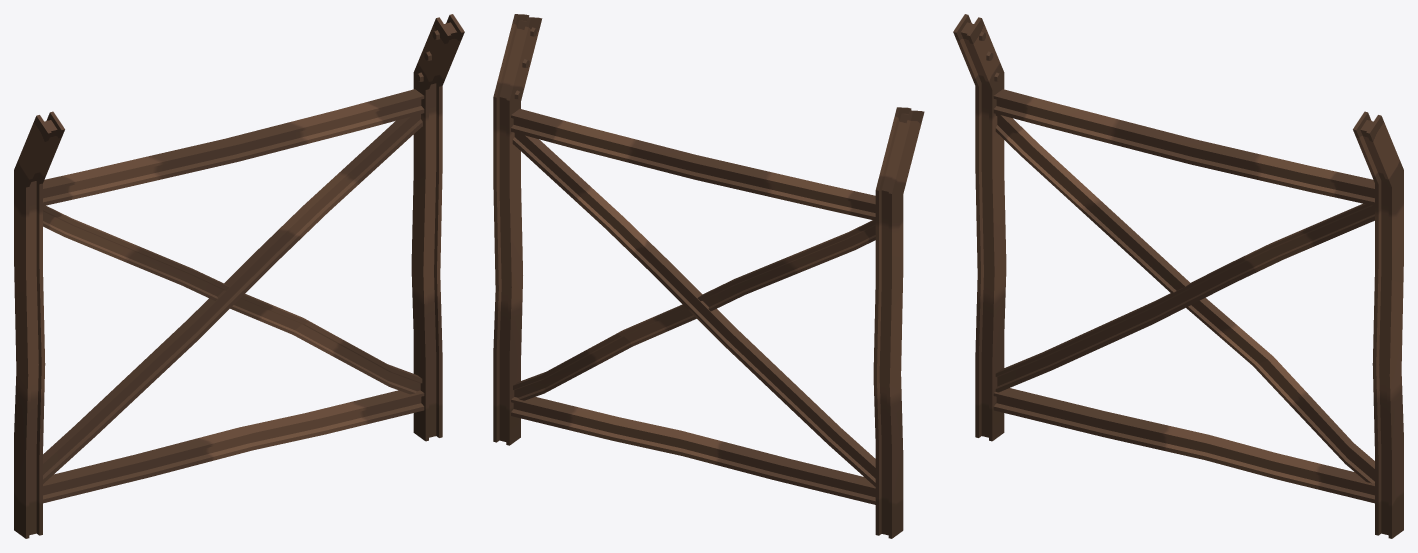
File: SM_Prop_Fence_02_1504.obj
The picture shows the model from 3 angles, left to right: view 1: azimuth 30°, elevation 25°; view 2: azimuth 150°, elevation 25°; view 3: azimuth 330°, elevation 25°; orthographic projection. The views are drawn at different scales.
Parts seen in each view (by area): view 1: SM_Prop_Fence_02_0; view 2: SM_Prop_Fence_02_0; view 3: SM_Prop_Fence_02_0.
Part boxes in pixels (x1=…): SM_Prop_Fence_02_0: x1=14, y1=14, x2=464, y2=538; SM_Prop_Fence_02_0: x1=493, y1=14, x2=924, y2=538; SM_Prop_Fence_02_0: x1=953, y1=14, x2=1403, y2=538.
Size of the model in its own units: 2.5 by 2.47 by 0.3545.
Materials: 1 (1 with a texture image).
